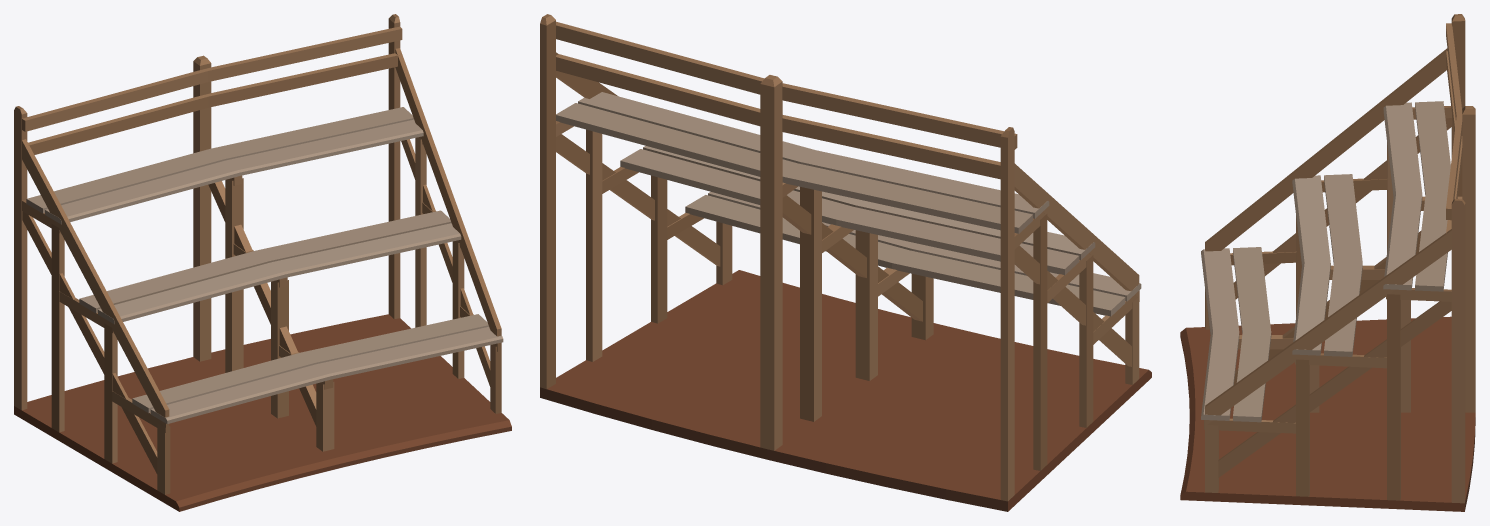
The model's file is medialuna-gallery-run-2dfbdd.glb.
The picture shows the model from 3 angles, left to right: view 1: azimuth 30°, elevation 25°; view 2: azimuth 150°, elevation 25°; view 3: azimuth 270°, elevation 25°; orthographic projection. The views are drawn at different scales.
Visible parts, largest first — view 1: gallery; view 2: gallery; view 3: gallery.
Part boxes in pixels (left/top/right/bottom): gallery: left=14, top=14, right=511, bottom=511; gallery: left=540, top=14, right=1151, bottom=511; gallery: left=1180, top=14, right=1475, bottom=511.
Bounding box in the file's own units: 4.65 × 3.6 × 3.1.
